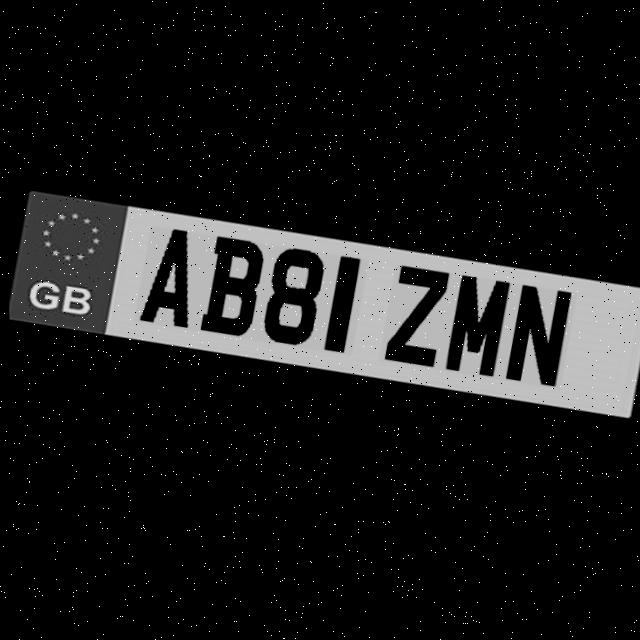license-plates: (9, 191, 640, 417)
